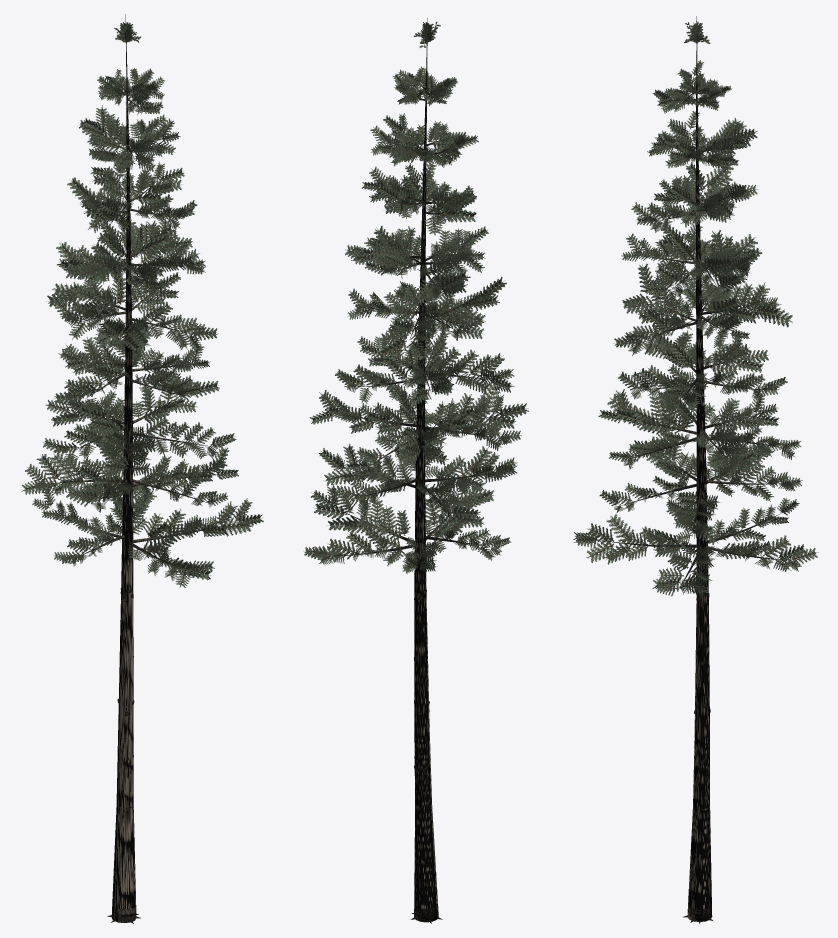
The model's file is Sitka_Young_02_HighPruned_Healed_LOD0.fbx.
3 views of the same model, side by side, from view 1: azimuth 30°, elevation 25°; view 2: azimuth 150°, elevation 25°; view 3: azimuth 270°, elevation 25° (orthographic).
Visible parts, largest first — view 1: Sitka_Young_02_HighPruned_Healed_LOD0; view 2: Sitka_Young_02_HighPruned_Healed_LOD0; view 3: Sitka_Young_02_HighPruned_Healed_LOD0.
Boxes of the visible parts, box(x1,y1,x2,y2) form: Sitka_Young_02_HighPruned_Healed_LOD0: box(21, 14, 263, 923); Sitka_Young_02_HighPruned_Healed_LOD0: box(304, 17, 528, 923); Sitka_Young_02_HighPruned_Healed_LOD0: box(573, 16, 818, 923).
Size of the model in its own units: 263 by 1050 by 271.
Materials: 3 (3 with a texture image).
